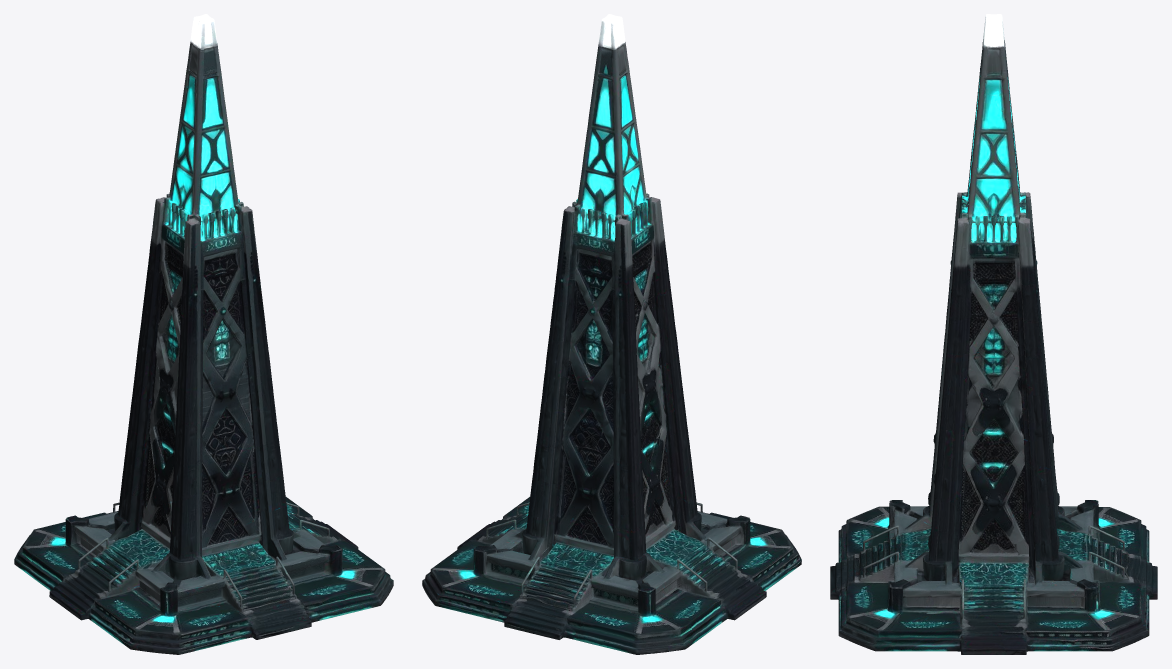
File: orai_tower_simplified.glb
The picture shows the model from 3 angles, left to right: view 1: azimuth 30°, elevation 25°; view 2: azimuth 150°, elevation 25°; view 3: azimuth 270°, elevation 25°; orthographic projection. The views are drawn at different scales.
Size of the model in its own units: 0.9912 by 1.9 by 0.9909.
1 material, 1 textured.
